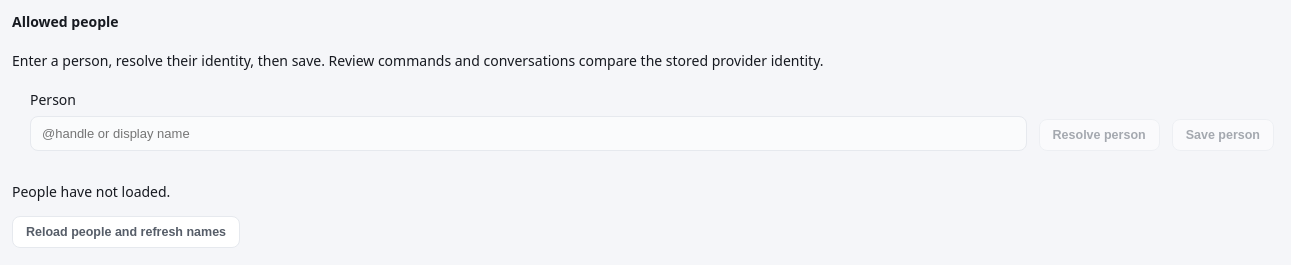
Test: refuses unresolved input
This screenshot has width=1291, height=265.
Type "@TEST-missing" into the field labelled "Person" at (528, 134), box [30,116,1027,151]
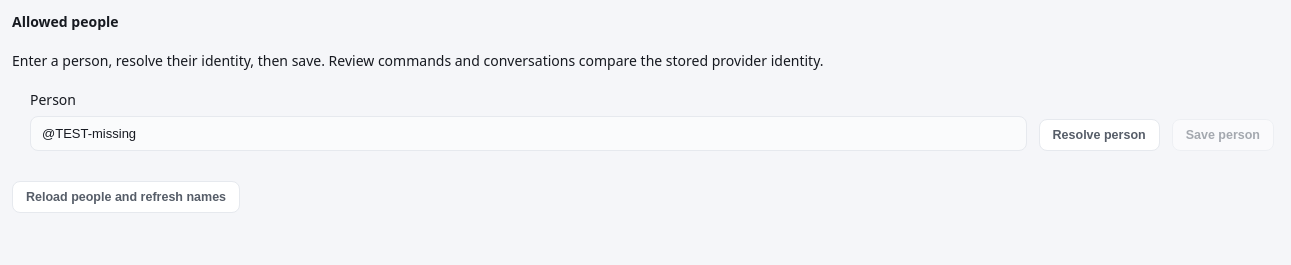
Click the button "Resolve person" at (1099, 135), box [1039,119,1160,151]
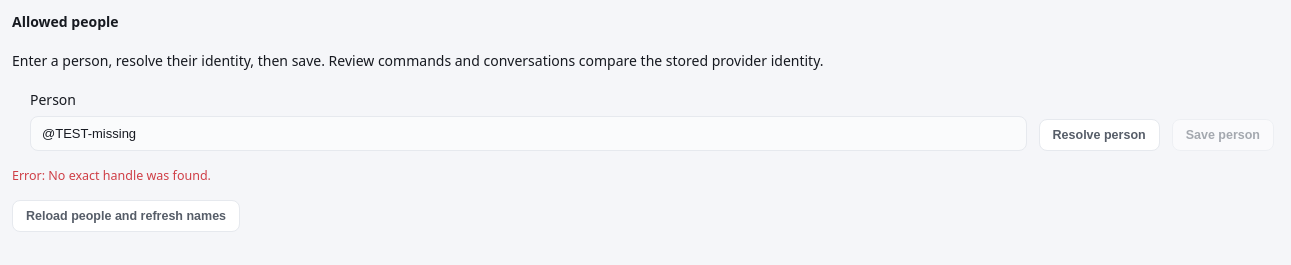
Expected: the button "Save person" is disabled, [1172,119,1274,151]
Result: the message shows "No exact handle was found" at [12,167,211,184]
